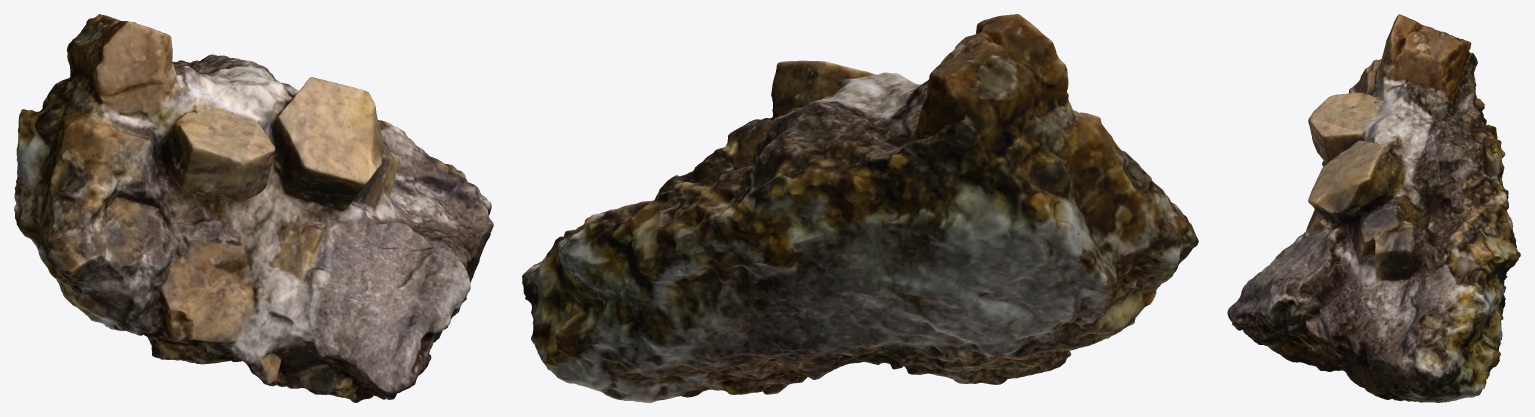
Rendered from magnetita.glb.
The picture shows the model from 3 angles, left to right: view 1: azimuth 30°, elevation 25°; view 2: azimuth 150°, elevation 25°; view 3: azimuth 270°, elevation 25°; orthographic projection. The views are drawn at different scales.
Parts seen in each view (by area): view 1: Object_3, Object_2, Object_4; view 2: Object_3, Object_2, Object_4; view 3: Object_2, Object_3, Object_4.
Boxes of the visible parts, <box> form: Object_3: <box>14,14,412,402</box>; Object_2: <box>182,58,493,399</box>; Object_4: <box>170,42,356,395</box>; Object_3: <box>559,14,1198,394</box>; Object_2: <box>522,60,995,402</box>; Object_4: <box>769,36,969,375</box>; Object_2: <box>1227,110,1520,402</box>; Object_3: <box>1229,14,1508,341</box>; Object_4: <box>1303,45,1503,234</box>.
Bounding box in the file's own units: 0.7748 × 0.5523 × 0.5207.
Materials: 1 (1 with a texture image).
